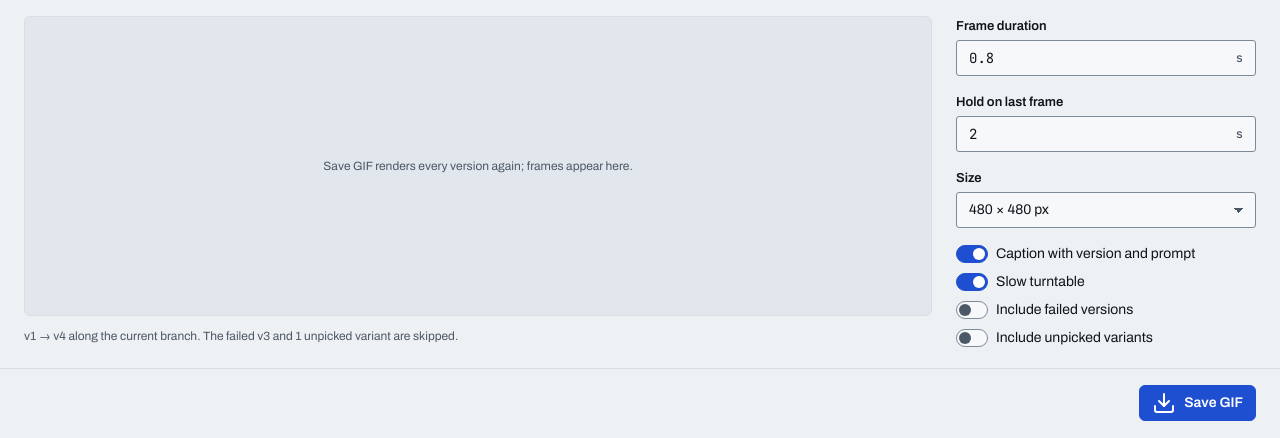
Test case: describes which versions the timelapse shows and follows the switches
The width and height of the screenshot is (1280, 438).
Expected: the text "v1 → v4 along the current branch. The failed v3 and 1 unpicked variant are skipped." is shown, [24, 329, 458, 343]
Click the checkbox labelled "Include failed versions": (1045, 310) [956, 301, 1133, 319]
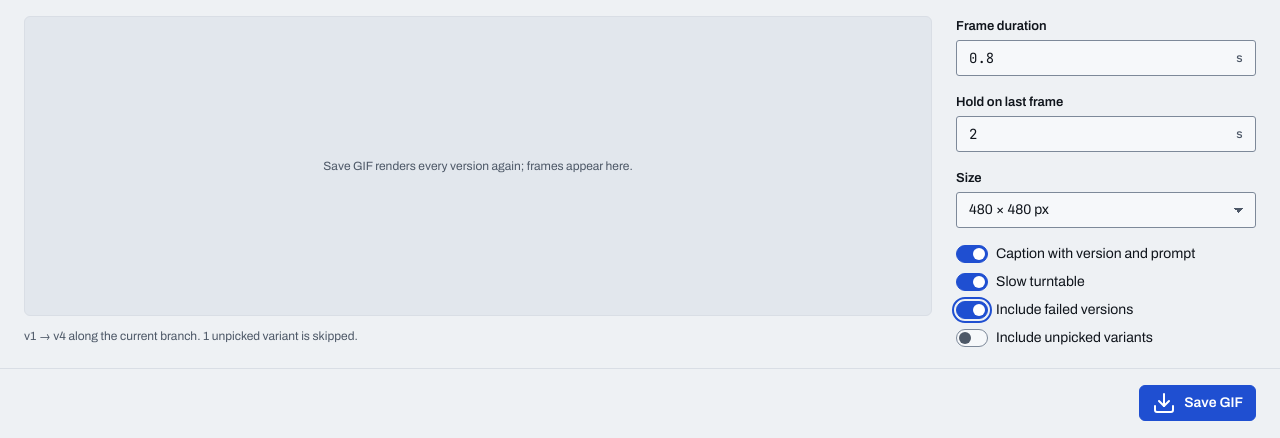
Expected: the text "v1 → v4 along the current branch. 1 unpicked variant is skipped." is shown, [24, 329, 358, 343]
